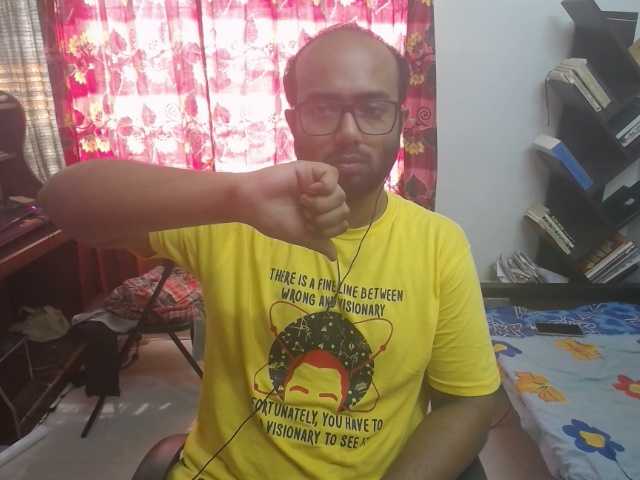nine: (212, 140, 373, 294)
